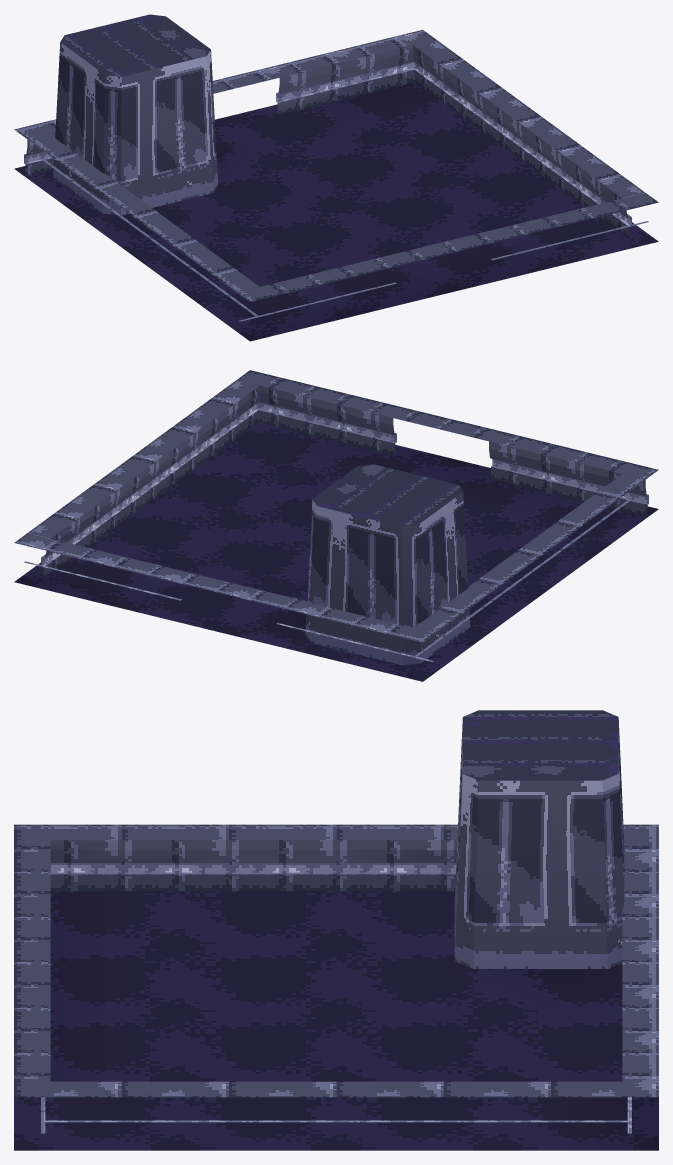
File: cyroom.rooftop.glb
3 views of the same model, one above another, from view 1: azimuth 30°, elevation 25°; view 2: azimuth 150°, elevation 25°; view 3: azimuth 270°, elevation 25° (orthographic). The views are drawn at different scales.
Parts seen in each view (by area): view 1: kit_shell_floor, kit_shell_walls, kit_trim; view 2: kit_shell_floor, kit_shell_walls, kit_trim; view 3: kit_shell_floor, kit_shell_walls, kit_trim.
Part boxes in pixels (x1,y1,x2,y2): kit_shell_floor: (14, 82, 658, 341); kit_shell_walls: (14, 29, 658, 321); kit_trim: (53, 14, 217, 215); kit_shell_floor: (14, 422, 658, 681); kit_shell_walls: (14, 370, 658, 661); kit_trim: (305, 464, 470, 665); kit_shell_floor: (14, 891, 658, 1150); kit_shell_walls: (14, 824, 658, 1133); kit_trim: (454, 710, 624, 968).
Size of the model in its own units: 12 by 3.8 by 12.
5 materials, 5 textured.
